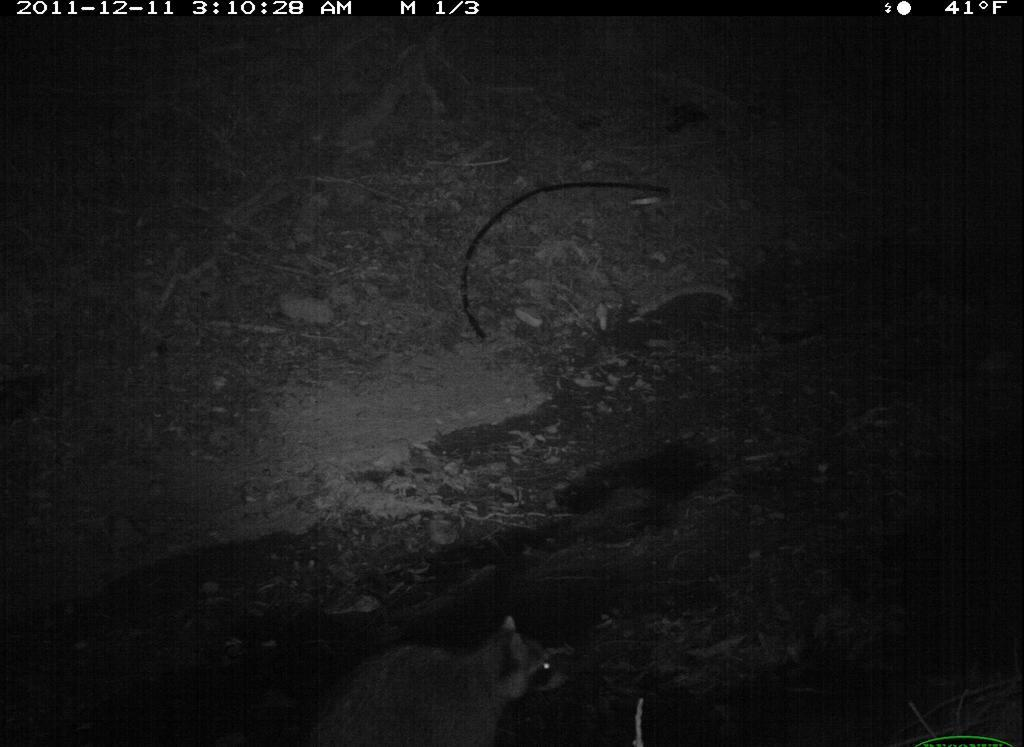raccoon: (303, 603, 565, 743)
